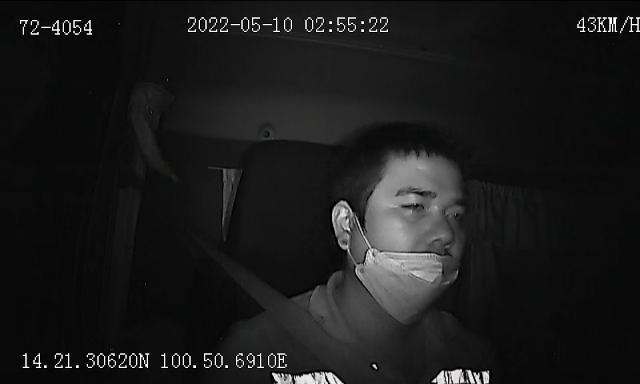SafeDriving: (394, 194, 434, 218), (440, 202, 470, 228)
Seatbelt: (224, 258, 382, 384)
